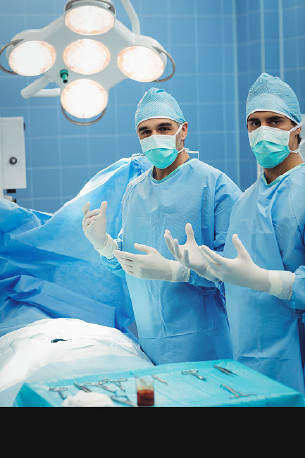face_mask: (248, 99, 291, 168), (137, 107, 179, 169)
